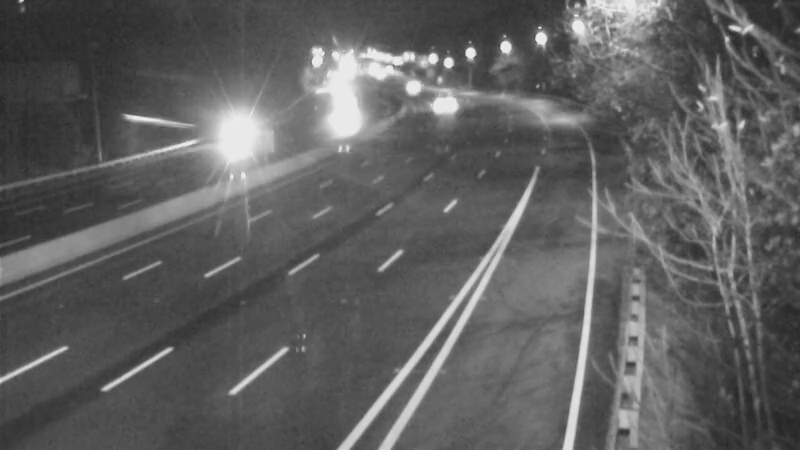vehicle: (385, 58, 435, 108), (418, 80, 468, 130), (207, 110, 257, 160), (318, 93, 368, 143)
